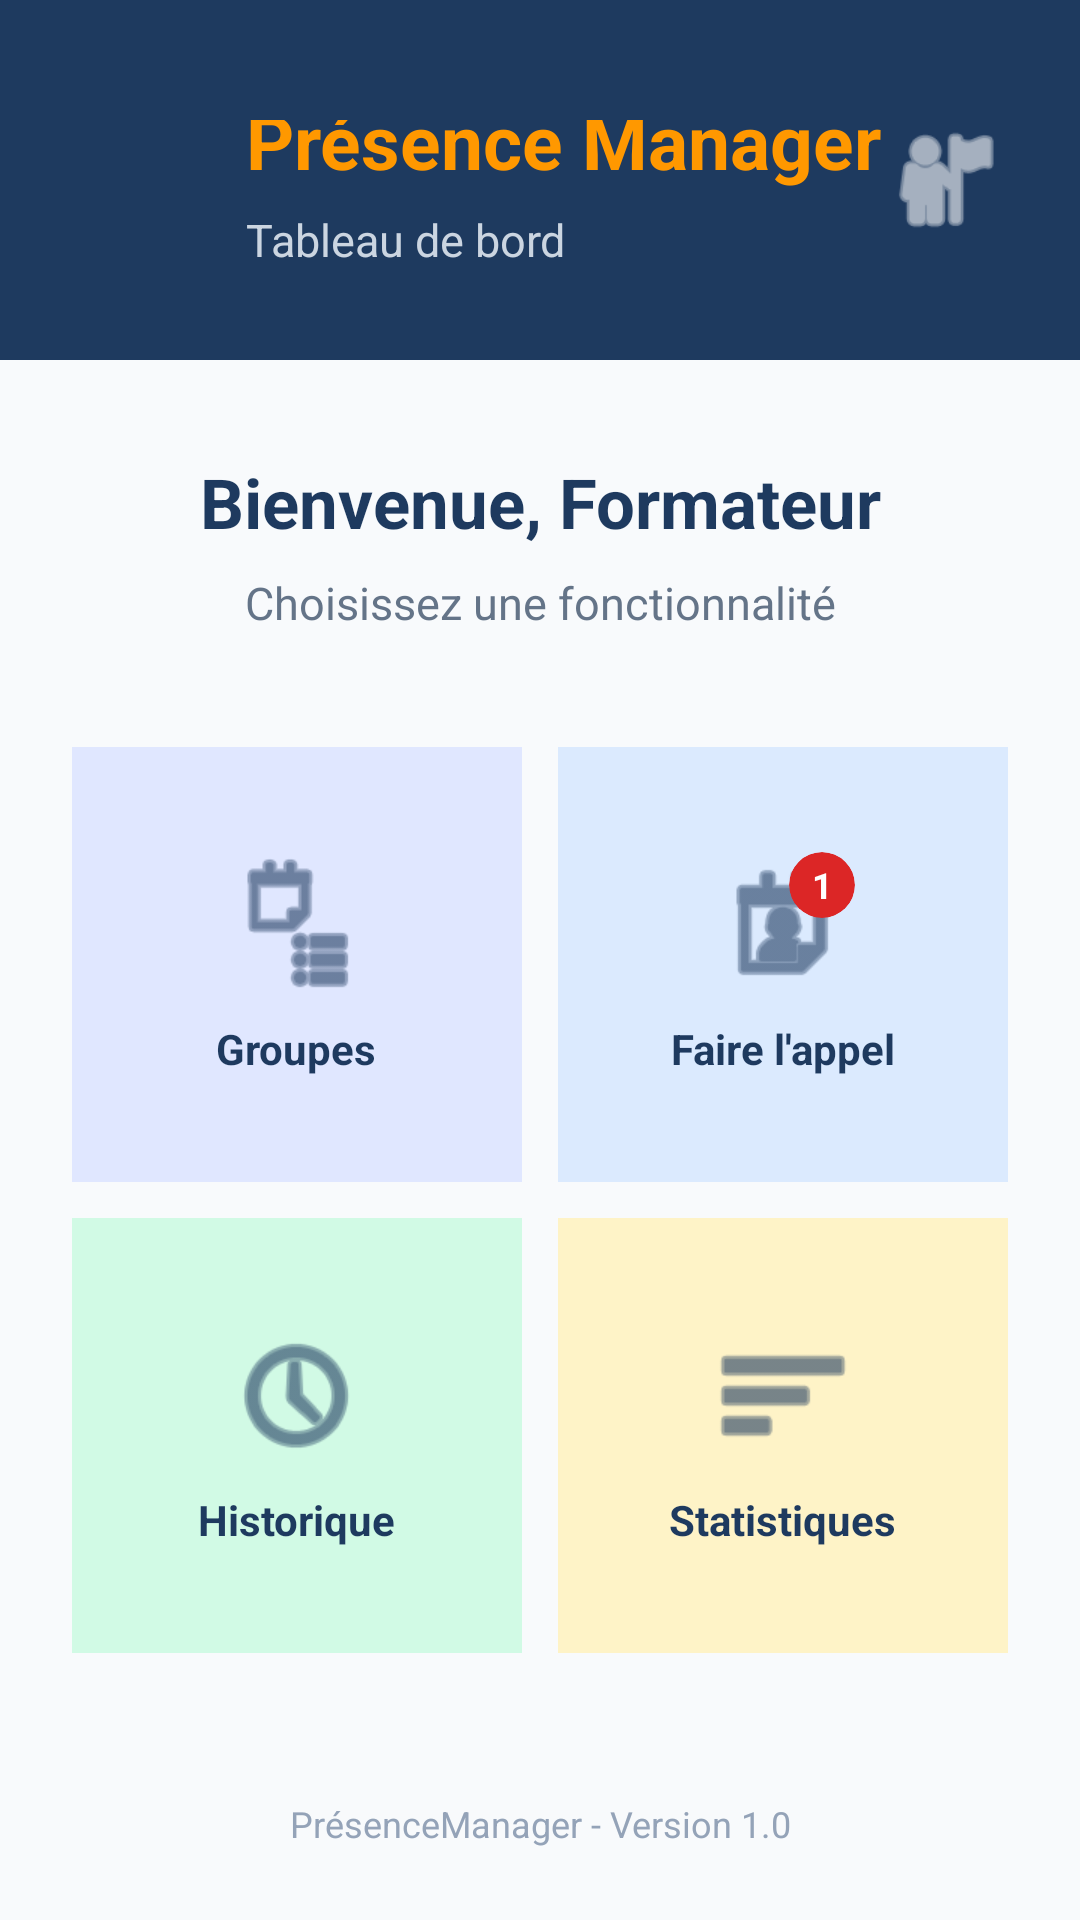

Where icons sit on this 1080 × 1920 app screen, as (x1, y1, x2, y2):
agenda: (247, 859, 348, 987)
recent history: (244, 1344, 348, 1448)
sort by size: (721, 1355, 845, 1436)
